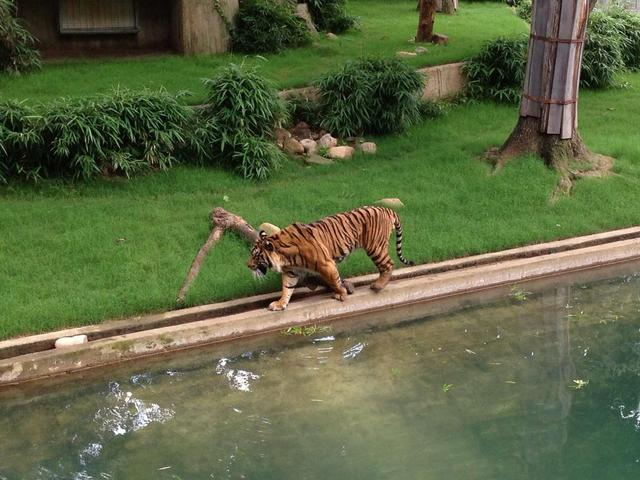tiger: (228, 194, 421, 313)
